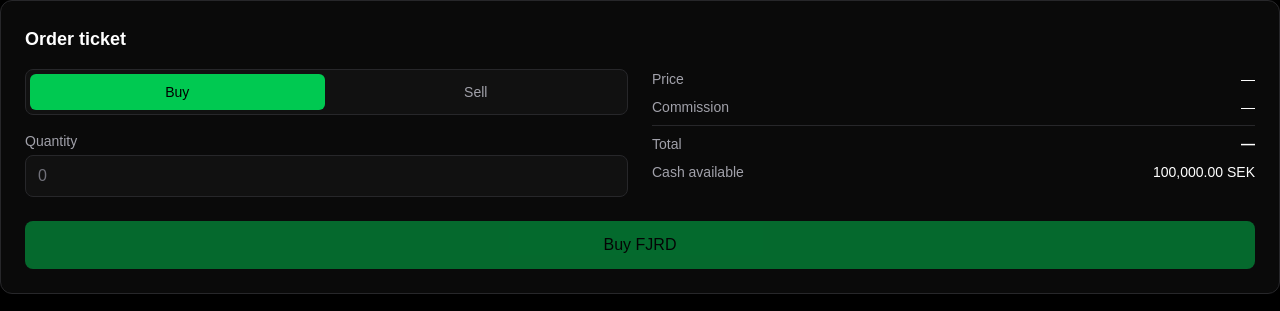
Test: OrderTicket › AC6: previews Buy 10 at the pinned quote
This screenshot has width=1280, height=311.
Expected: the button "Buy FJRD" is shown, [25, 221, 1255, 269]
Type "10" into the number field labelled "Quantity".
click(326, 176); type("10")  # box [25, 155, 628, 197]
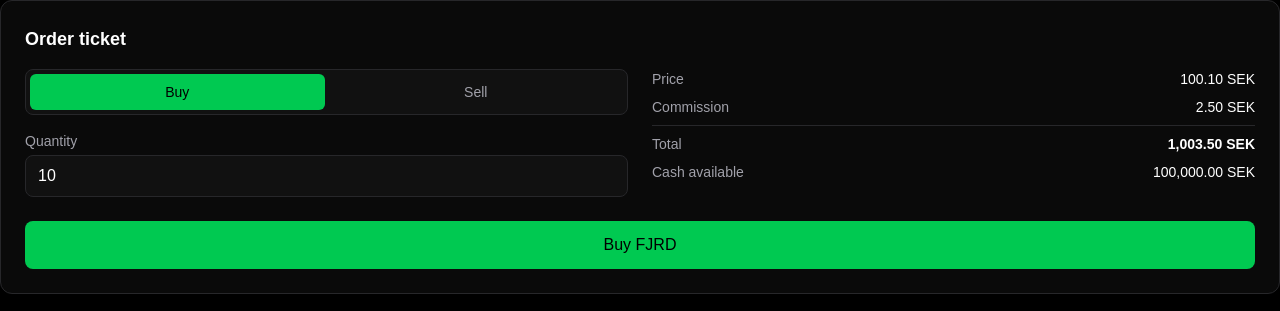
Expected: the text "100.10 SEK" is shown, [1180, 69, 1255, 89]
Expected: the text "2.50 SEK" is shown, [1196, 97, 1255, 117]
Expected: the text "1,003.50 SEK" is shown, [1168, 134, 1255, 154]
